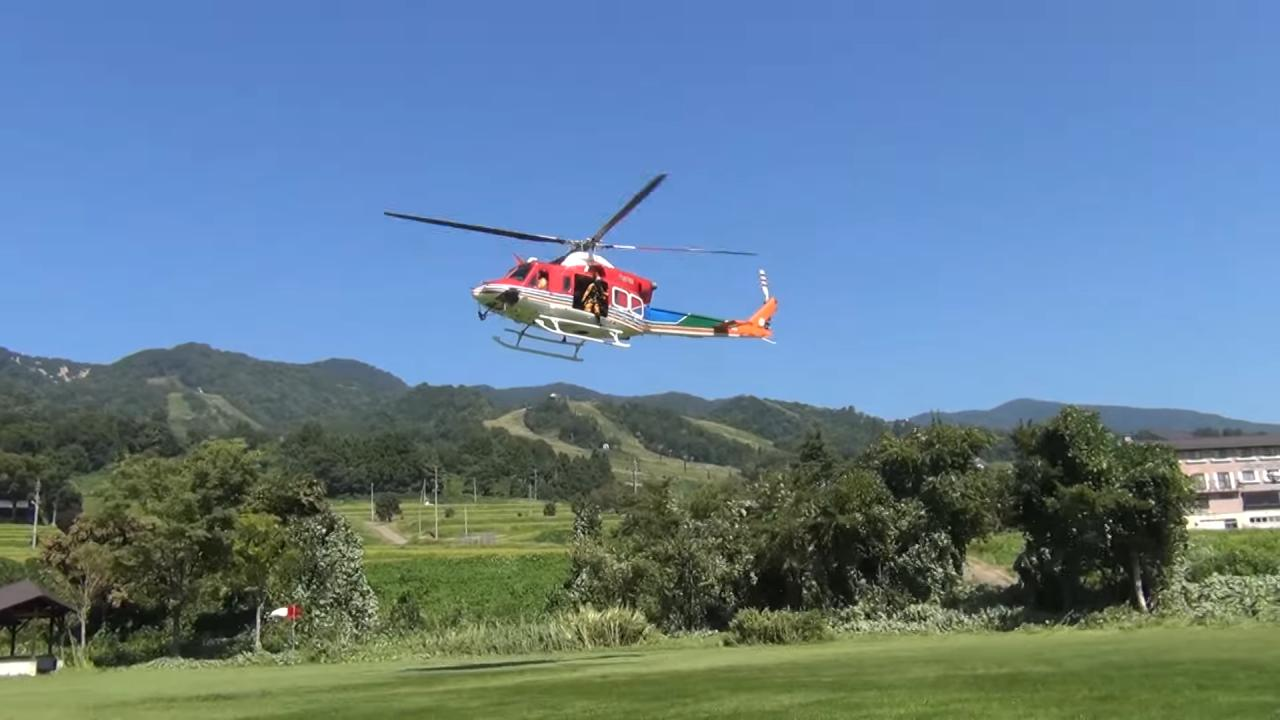Helicopter: (363, 146, 805, 385)
